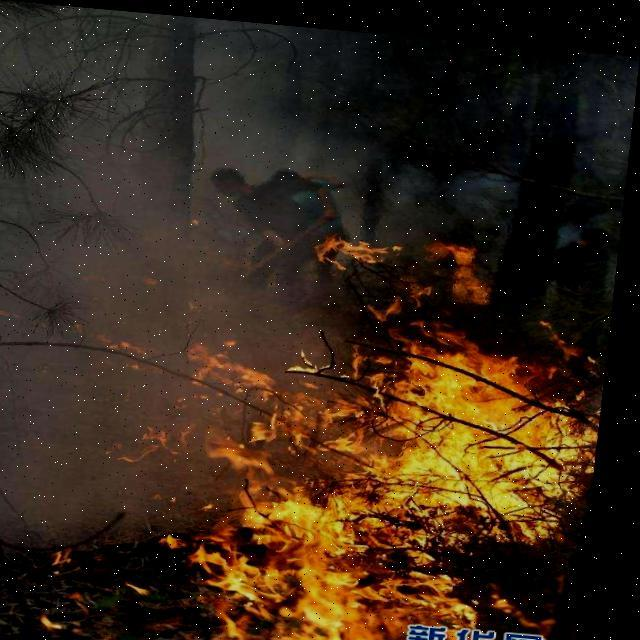Fire: (130, 214, 619, 639)
